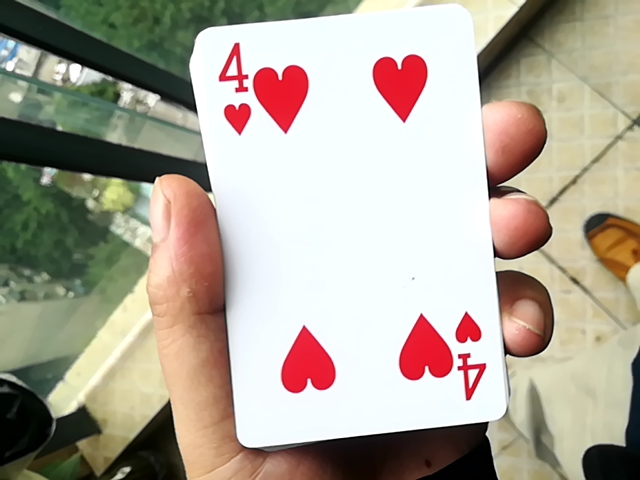hx 4: (179, 9, 504, 451)
